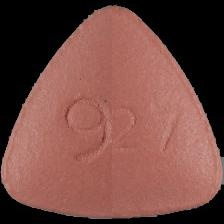54458-893: (0, 0, 224, 224)
